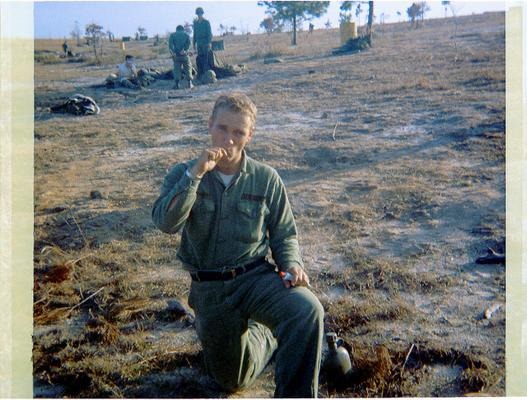person: (151, 93, 325, 400)
